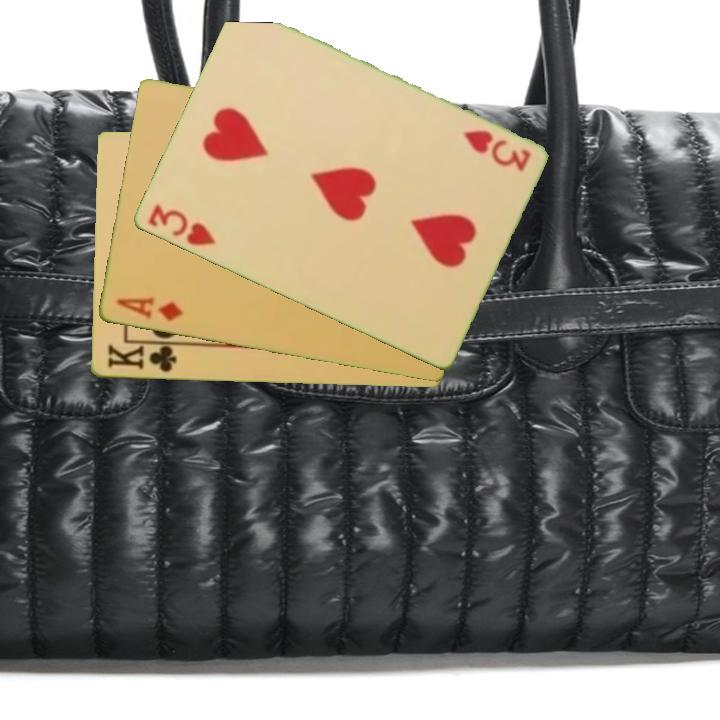3h: (459, 126, 534, 175), (144, 200, 218, 249)
Ad: (112, 293, 186, 324)
Kc: (103, 340, 185, 376)
